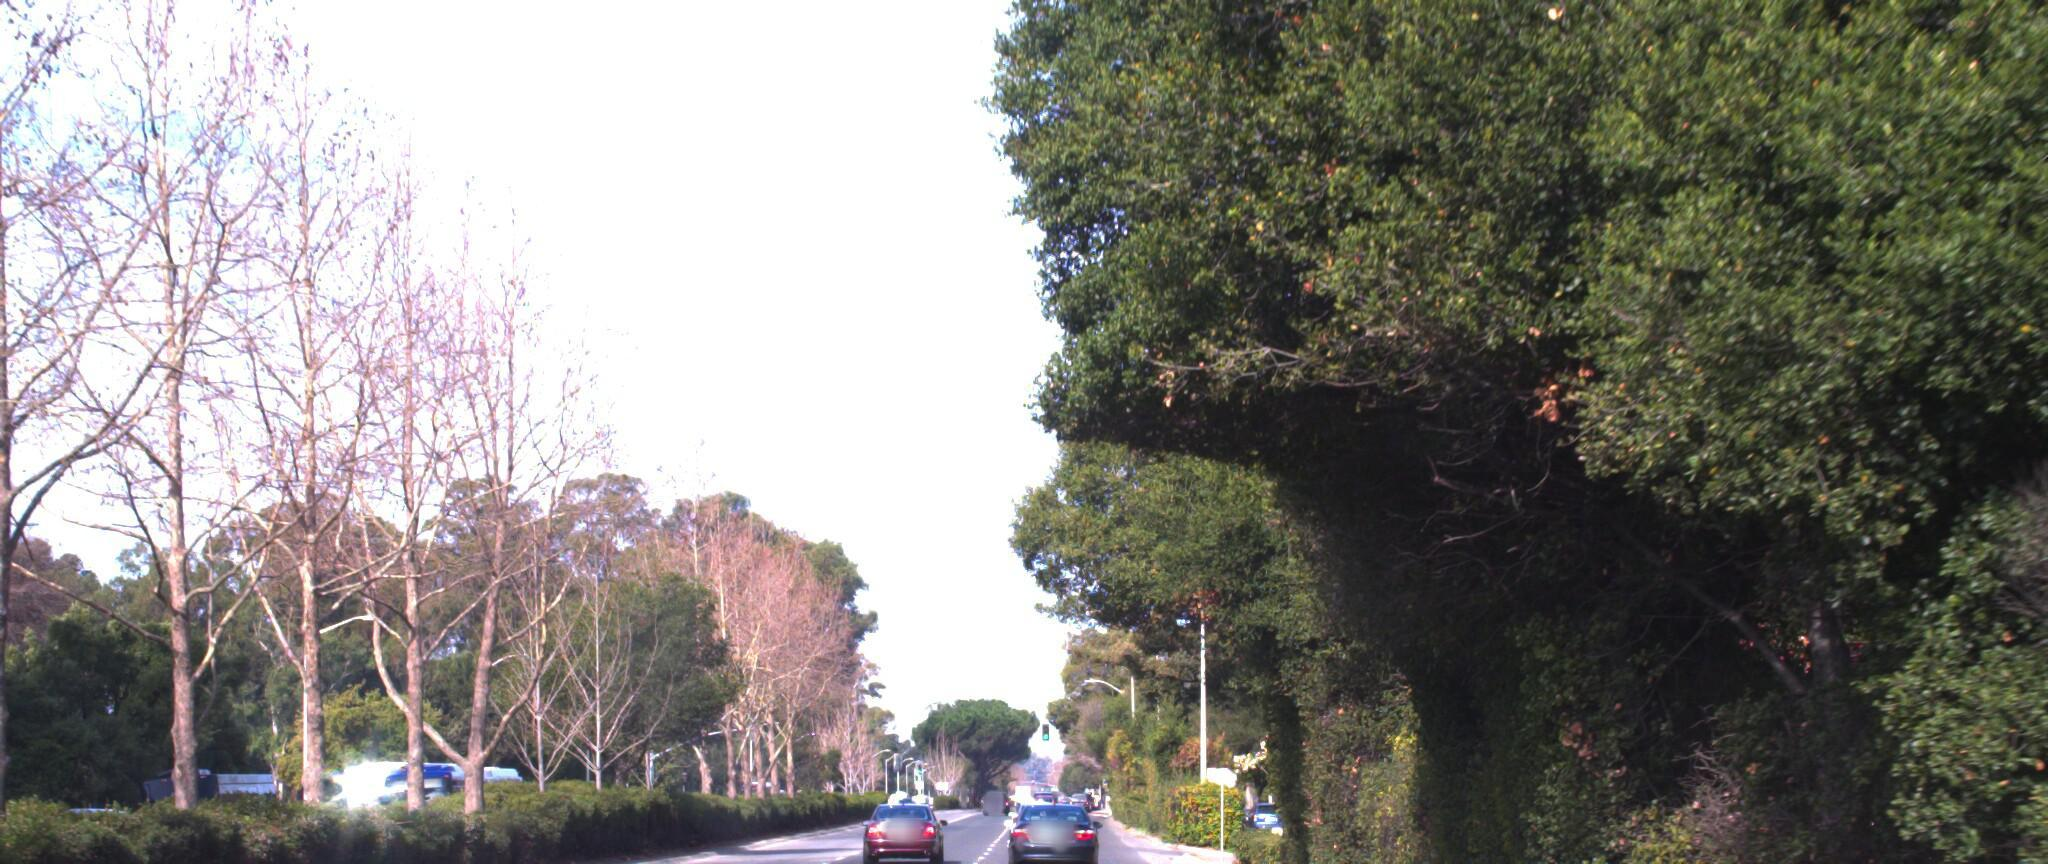car: (1004, 777, 1096, 855), (857, 780, 942, 847)
